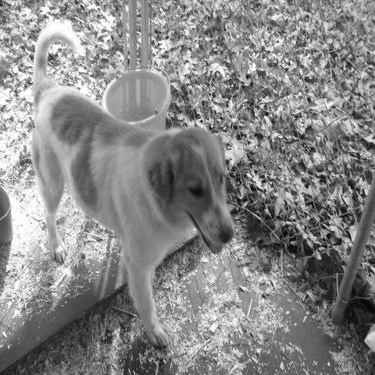dog: (32, 11, 236, 352)
